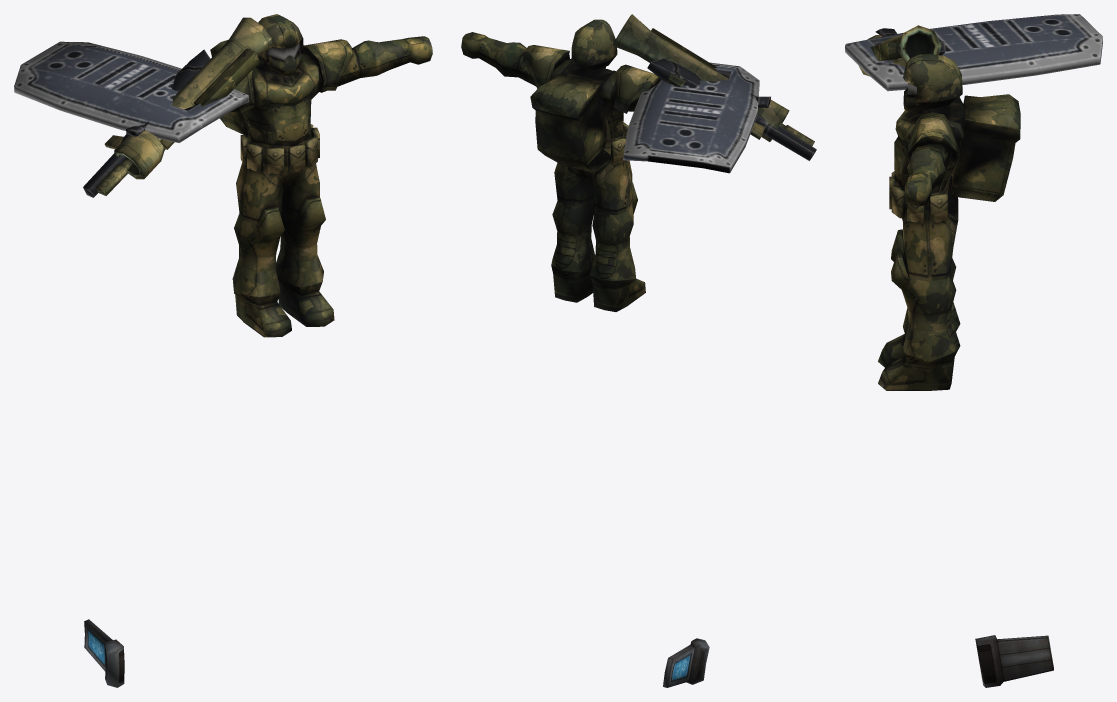
Rendered from UPLSpecOps.glb.
The picture shows the model from 3 angles, left to right: view 1: azimuth 30°, elevation 25°; view 2: azimuth 150°, elevation 25°; view 3: azimuth 270°, elevation 25°; orthographic projection. The views are drawn at different scales.
Parts seen in each view (by area): view 1: Mesh, RiotShield, Launcher, Tablet, Shotgun, SpecOpsgun; view 2: Mesh, RiotShield, Launcher, Shotgun, Tablet, SpecOpsgun; view 3: Mesh, RiotShield, Tablet, Launcher.
Boxes of the visible parts, box(x1,y1,x2,y2) form: Mesh: box(210, 14, 432, 337); RiotShield: box(14, 41, 248, 142); Launcher: box(114, 17, 272, 179); Tablet: box(84, 619, 124, 687); Shotgun: box(83, 49, 210, 197); SpecOpsgun: box(96, 65, 185, 195); Mesh: box(461, 19, 661, 311); RiotShield: box(623, 62, 759, 173); Launcher: box(612, 14, 789, 141); Shotgun: box(647, 58, 816, 160); Tablet: box(663, 638, 709, 687); SpecOpsgun: box(667, 74, 814, 146); Mesh: box(878, 54, 1020, 390); RiotShield: box(845, 14, 1102, 91); Tablet: box(975, 635, 1053, 687); Launcher: box(859, 25, 941, 76).
Bounding box in the file's own units: 1.34 × 2.35 × 0.7698.
Materials: 7 (7 with a texture image).
